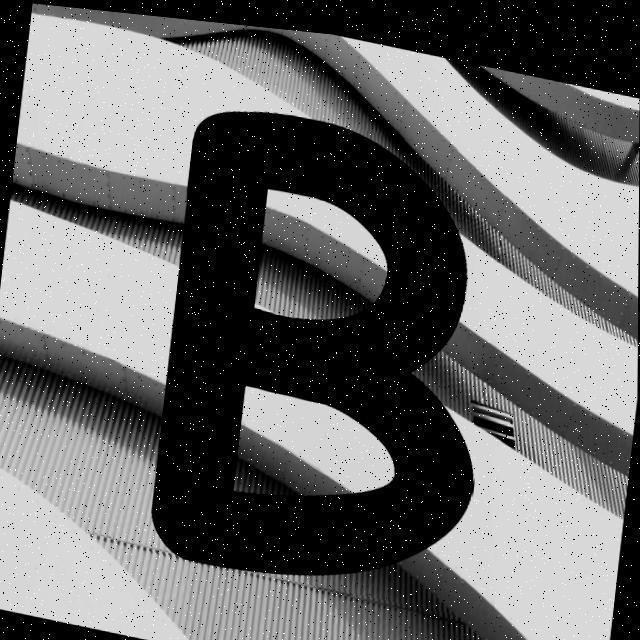B: (153, 106, 474, 568)
